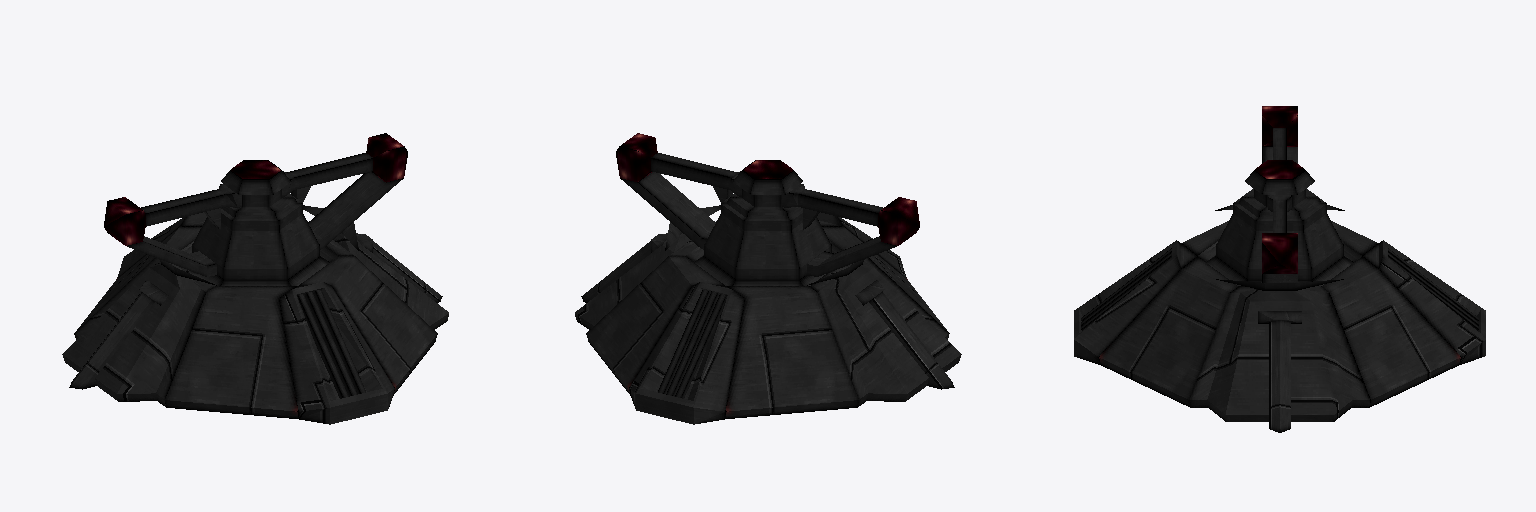
3 renders of one model, left to right at view 1: azimuth 30°, elevation 25°; view 2: azimuth 150°, elevation 25°; view 3: azimuth 270°, elevation 25°, orthographic.
Parts seen in each view (by area): view 1: base, arms; view 2: base, arms; view 3: base, arms.
Part boxes in pixels (left/top/right/bottom): base: left=62, top=205, right=448, bottom=424; arms: left=104, top=133, right=407, bottom=279; base: left=575, top=205, right=961, bottom=424; arms: left=616, top=133, right=919, bottom=279; base: left=1074, top=205, right=1485, bottom=432; arms: left=1216, top=106, right=1343, bottom=282.
Size of the model in its own units: 25.51 by 11.25 by 24.43.
2 materials, 2 textured.